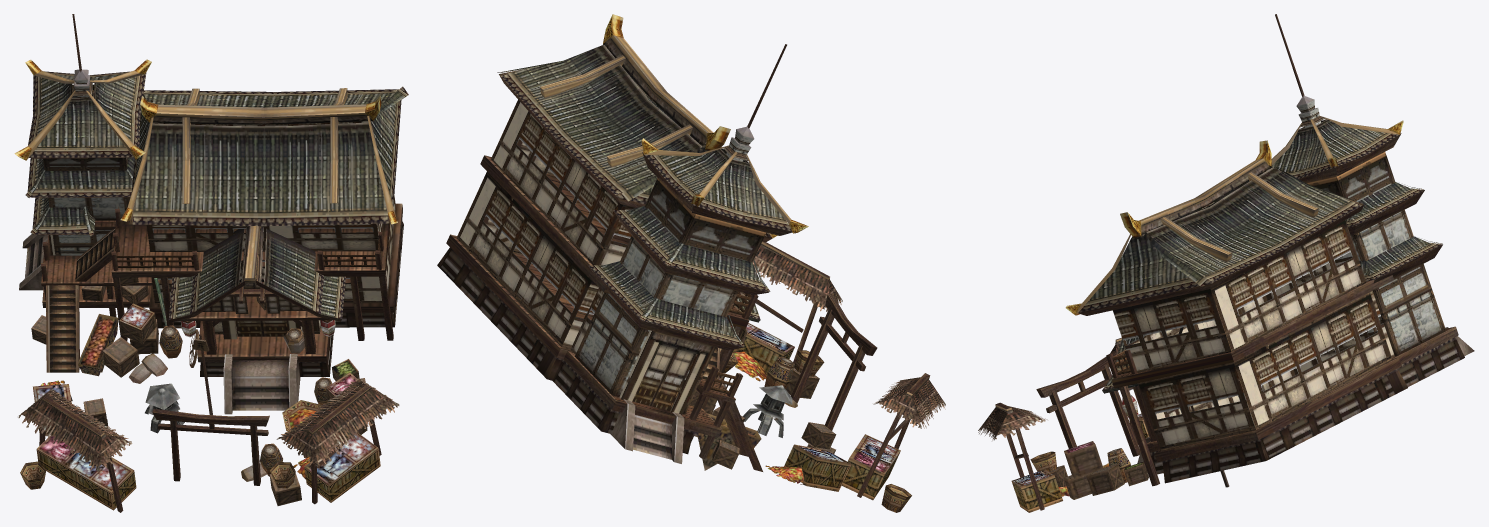
Rendered from japan_market.fbx.
The picture shows the model from 3 angles, left to right: view 1: azimuth 30°, elevation 25°; view 2: azimuth 150°, elevation 25°; view 3: azimuth 270°, elevation 25°; orthographic projection. The views are drawn at different scales.
Visible parts, largest first — view 1: Object01, Object03, Object02; view 2: Object01, Object03, Object02; view 3: Object03, Object01, Object02.
Part boxes in pixels (x1,y1,x2,y2): Object01: (14,14,408,512); Object03: (28,71,401,334); Object02: (20,277,367,505); Object01: (437,14,945,500); Object03: (456,43,792,394); Object02: (690,299,911,512); Object03: (1078,116,1445,450); Object01: (978,14,1474,512); Object02: (1014,387,1229,499).
Size of the model in its own units: 12.93 by 13.3 by 13.05.
2 materials, 2 textured.
